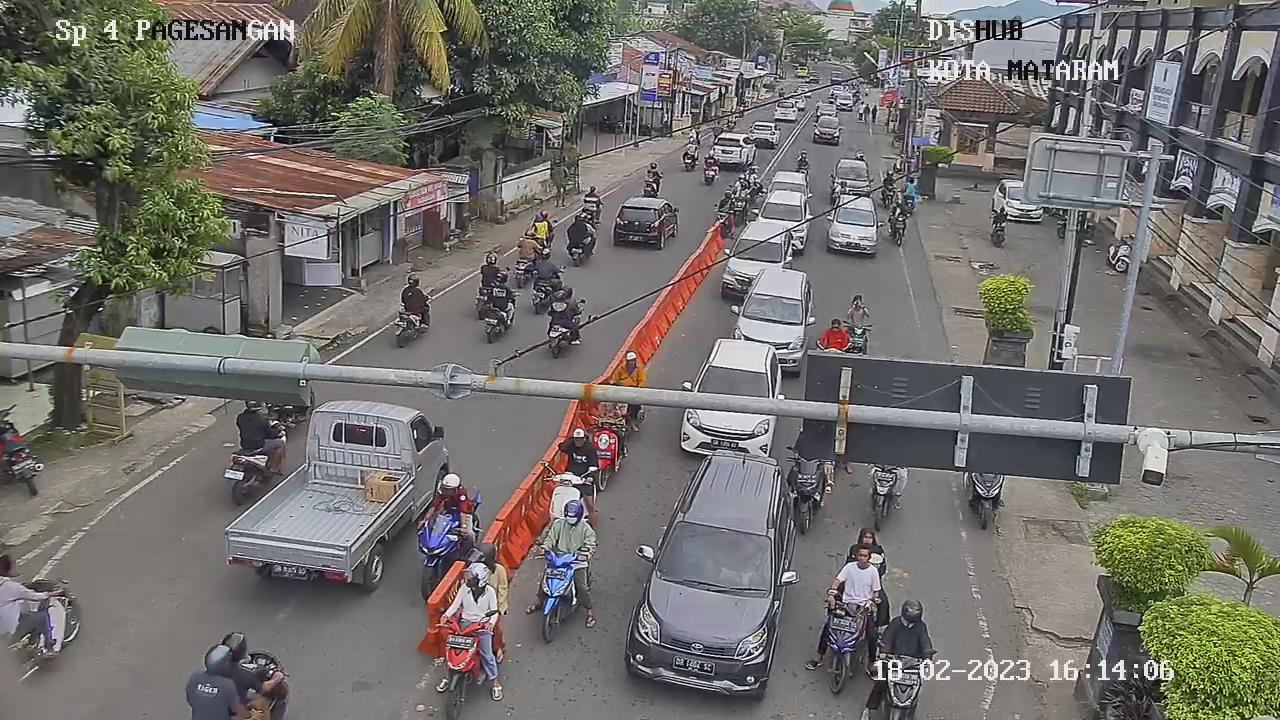car: (622, 443, 802, 699), (682, 331, 786, 463), (727, 264, 813, 350), (721, 216, 799, 303), (610, 196, 679, 249), (756, 189, 811, 254), (826, 195, 882, 255), (828, 158, 877, 205), (711, 130, 756, 173), (746, 119, 781, 154), (811, 114, 845, 147), (773, 99, 798, 122)
motorcycle: (428, 607, 502, 720), (523, 535, 591, 646), (820, 585, 886, 693), (779, 444, 837, 537), (410, 509, 471, 595), (580, 409, 632, 496), (538, 457, 596, 533), (857, 456, 908, 537), (876, 655, 936, 720), (962, 468, 1008, 534), (840, 319, 872, 360), (887, 212, 911, 249), (712, 203, 735, 236), (729, 190, 750, 222), (879, 183, 898, 210), (794, 160, 810, 180)
person: (182, 625, 259, 720), (878, 597, 936, 663), (442, 561, 494, 630), (544, 492, 595, 558), (832, 539, 876, 605), (425, 470, 475, 525), (555, 427, 596, 480), (612, 344, 649, 392), (546, 285, 586, 328), (399, 283, 430, 331), (816, 317, 851, 355), (475, 249, 505, 292), (488, 268, 515, 314), (843, 292, 874, 331), (530, 244, 563, 280), (564, 209, 593, 243), (515, 228, 541, 262), (531, 208, 553, 239), (579, 183, 600, 209), (642, 160, 664, 183), (715, 188, 736, 212), (987, 202, 1008, 226), (900, 176, 922, 197), (890, 198, 908, 219), (701, 149, 719, 169), (732, 173, 748, 194), (680, 138, 698, 156), (792, 147, 810, 165), (882, 169, 898, 187)
truck: (222, 401, 459, 591)
